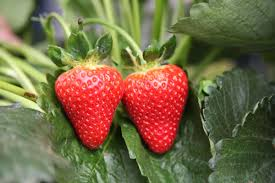ripe: (125, 56, 191, 160), (51, 65, 127, 153)
